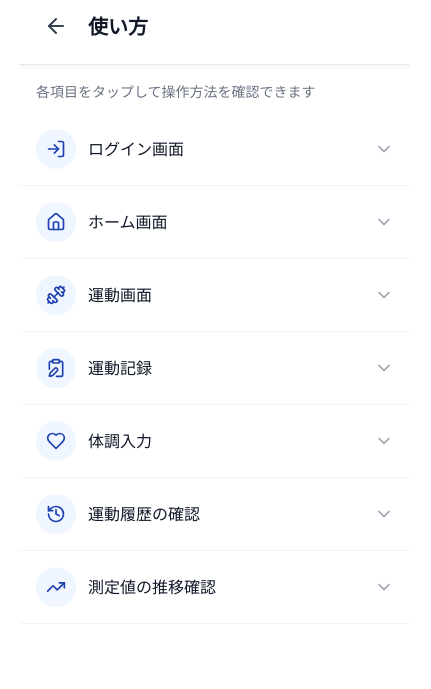
Test: UserGuide（使い方） › accordion interaction › should show condition input section content when expanded
Click the button "体調入力". click: (56, 441)
box: 20,405 -> 410,477
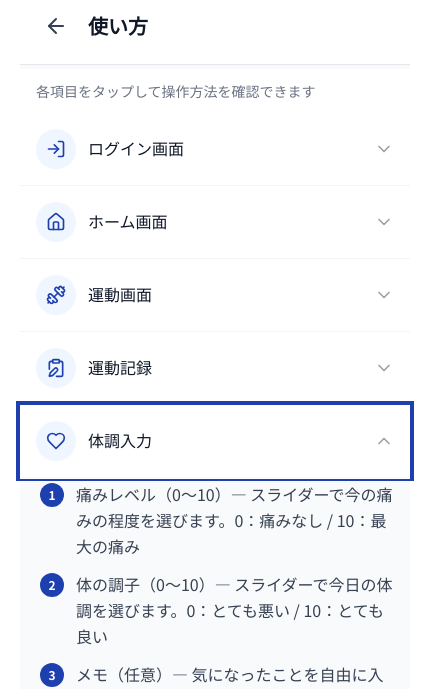
Now the text "痛みレベル（0〜10）— スライダーで今の痛みの程度を選びます。0：痛みなし / 10：最大の痛み" is shown, box 76,481 -> 394,559
